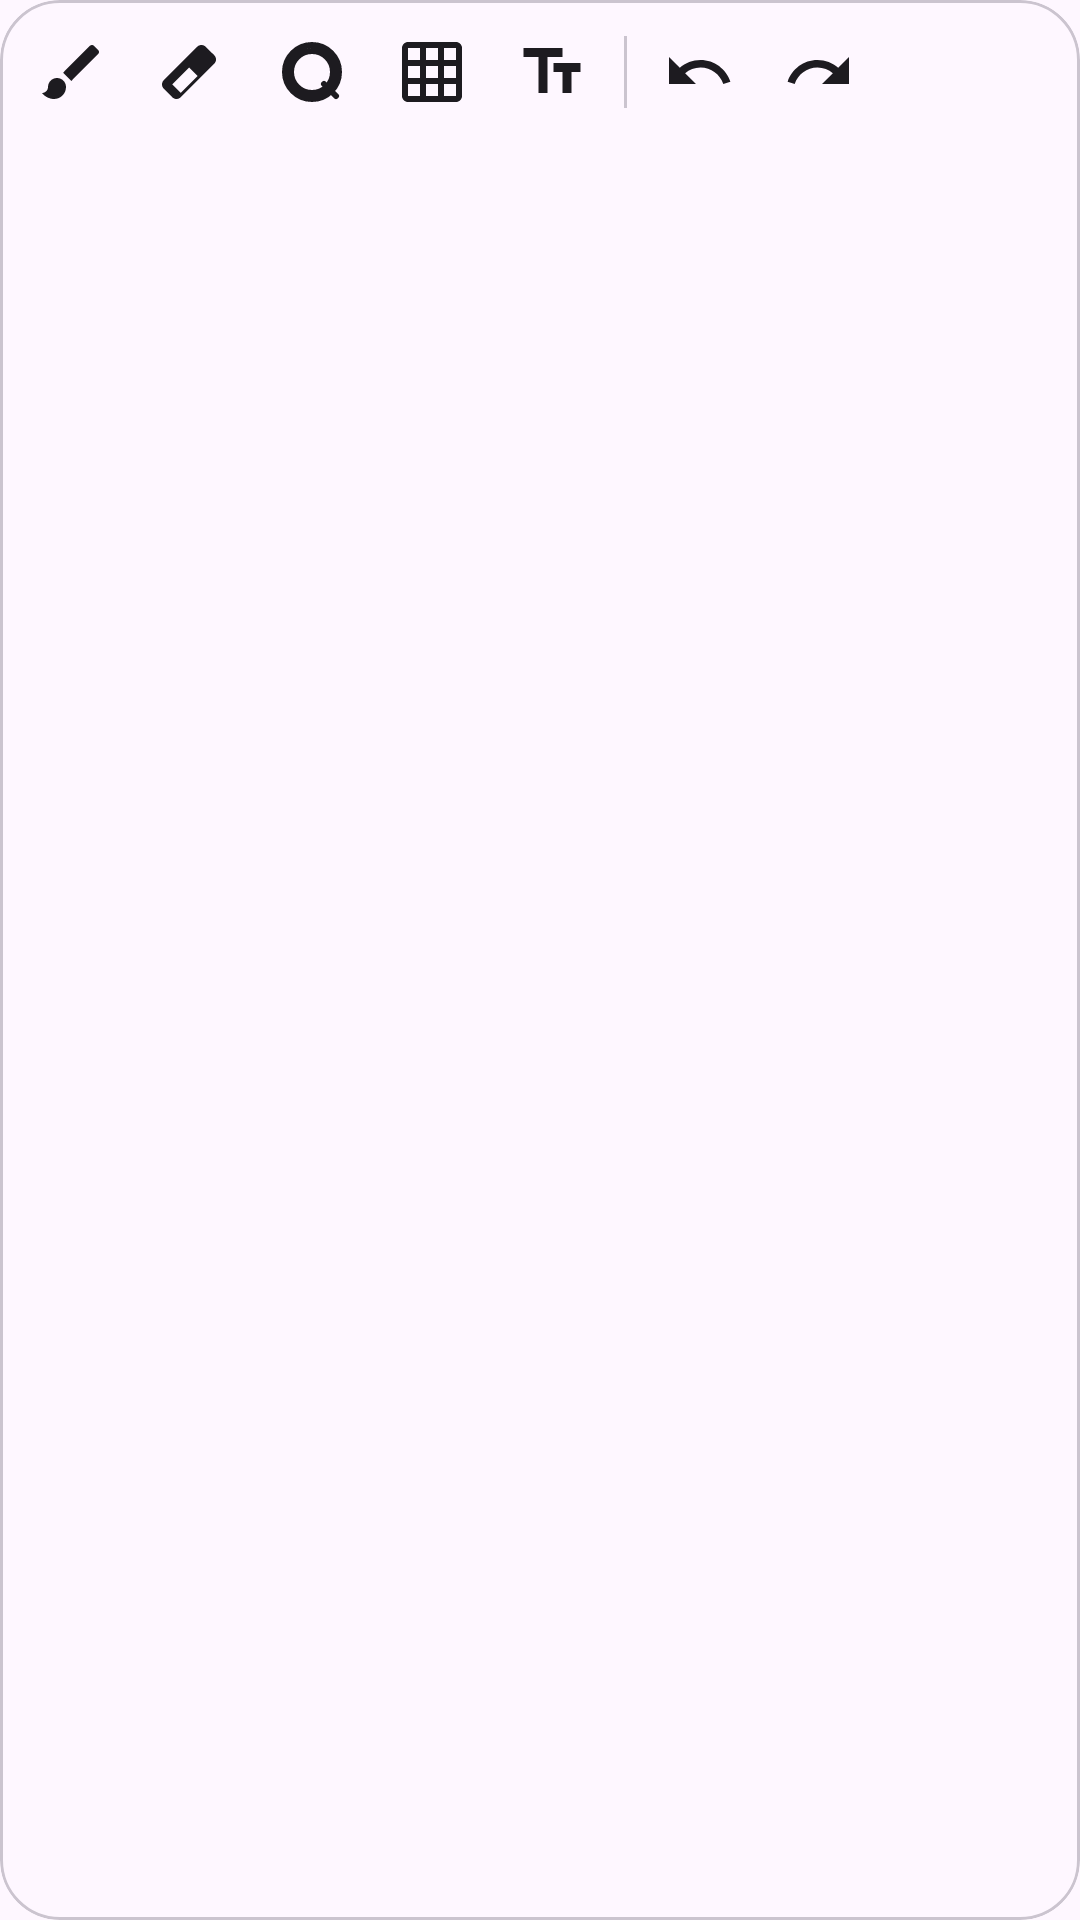

Screen size 1080 x 1920. Icon name, then its box in pixels as (x1, y1, x2, y2):
brush: (42, 45, 99, 99)
eraser: (162, 45, 216, 99)
grid: (402, 42, 462, 102)
redo: (787, 57, 849, 84)
text fields: (523, 48, 581, 93)
undo: (669, 57, 731, 84)
